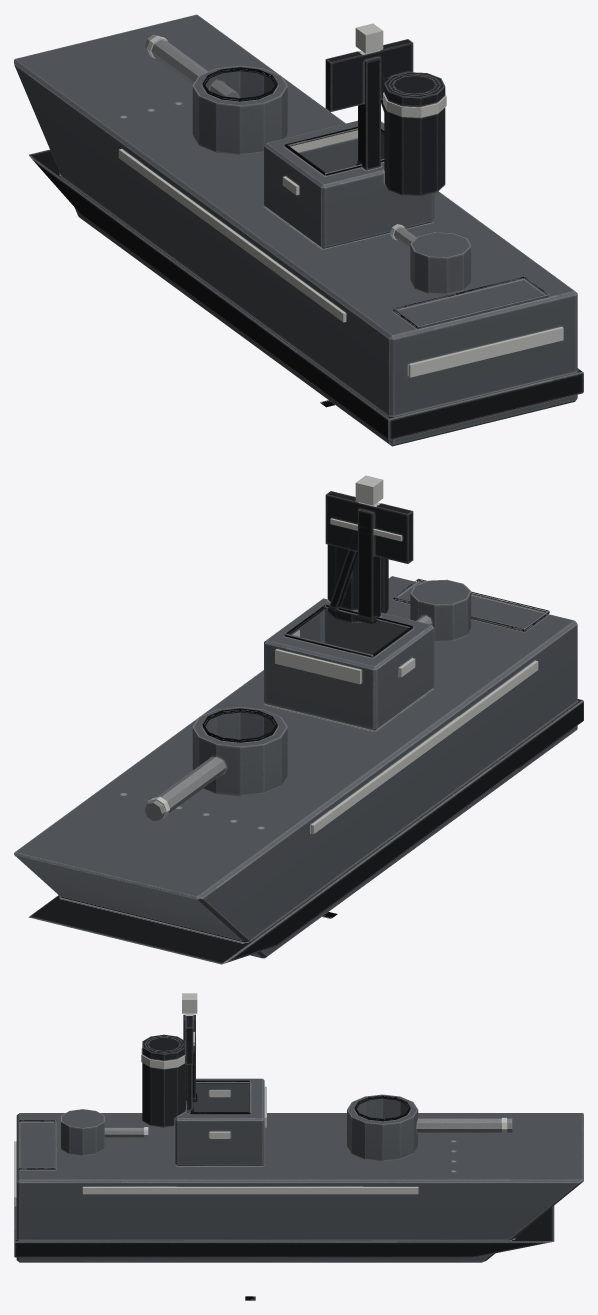
Rendered from chs_barracuda.fbx.
The picture shows the model from 3 angles, top to bottom: view 1: azimuth 30°, elevation 25°; view 2: azimuth 150°, elevation 25°; view 3: azimuth 270°, elevation 25°; orthographic projection. The views are drawn at different scales.
Parts seen in each view (by area): view 1: base_bar, turret1_bar, base_glow_running_bar, turret2_bar; view 2: base_bar, turret1_bar, base_glow_running_bar, turret2_bar; view 3: base_bar, turret1_bar, base_glow_running_bar, turret2_bar.
Part boxes in pixels (x1,y1,x2,y2): base_bar: (14,14,583,446); turret1_bar: (144,34,287,155); base_glow_running_bar: (118,23,563,377); turret2_bar: (394,227,471,294); base_bar: (14,491,583,964); turret1_bar: (144,707,287,821); base_glow_running_bar: (275,475,538,834); turret2_bar: (410,579,471,641); base_bar: (14,1013,583,1262); turret1_bar: (347,1094,512,1161); base_glow_running_bar: (14,993,418,1206); turret2_bar: (61,1109,144,1155).
Size of the model in its own units: 332 by 655 by 1122.
Materials: 2 (2 with a texture image).
